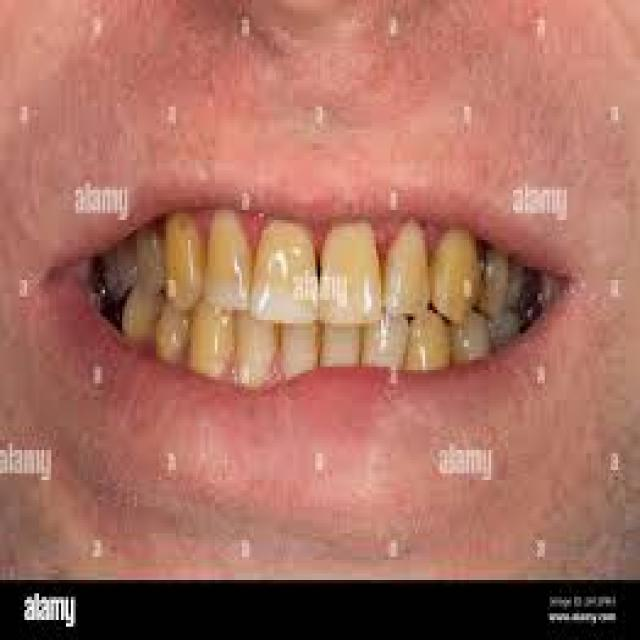tooth: (315, 214, 384, 324), (254, 213, 318, 330), (432, 217, 484, 323), (202, 204, 252, 314), (386, 210, 430, 317), (159, 210, 205, 307), (234, 300, 278, 390), (190, 297, 234, 380), (366, 307, 411, 370), (413, 307, 452, 373), (132, 217, 164, 293), (281, 316, 320, 376), (320, 317, 364, 370), (454, 307, 494, 363), (118, 283, 156, 340), (484, 243, 511, 317), (156, 303, 186, 360)
